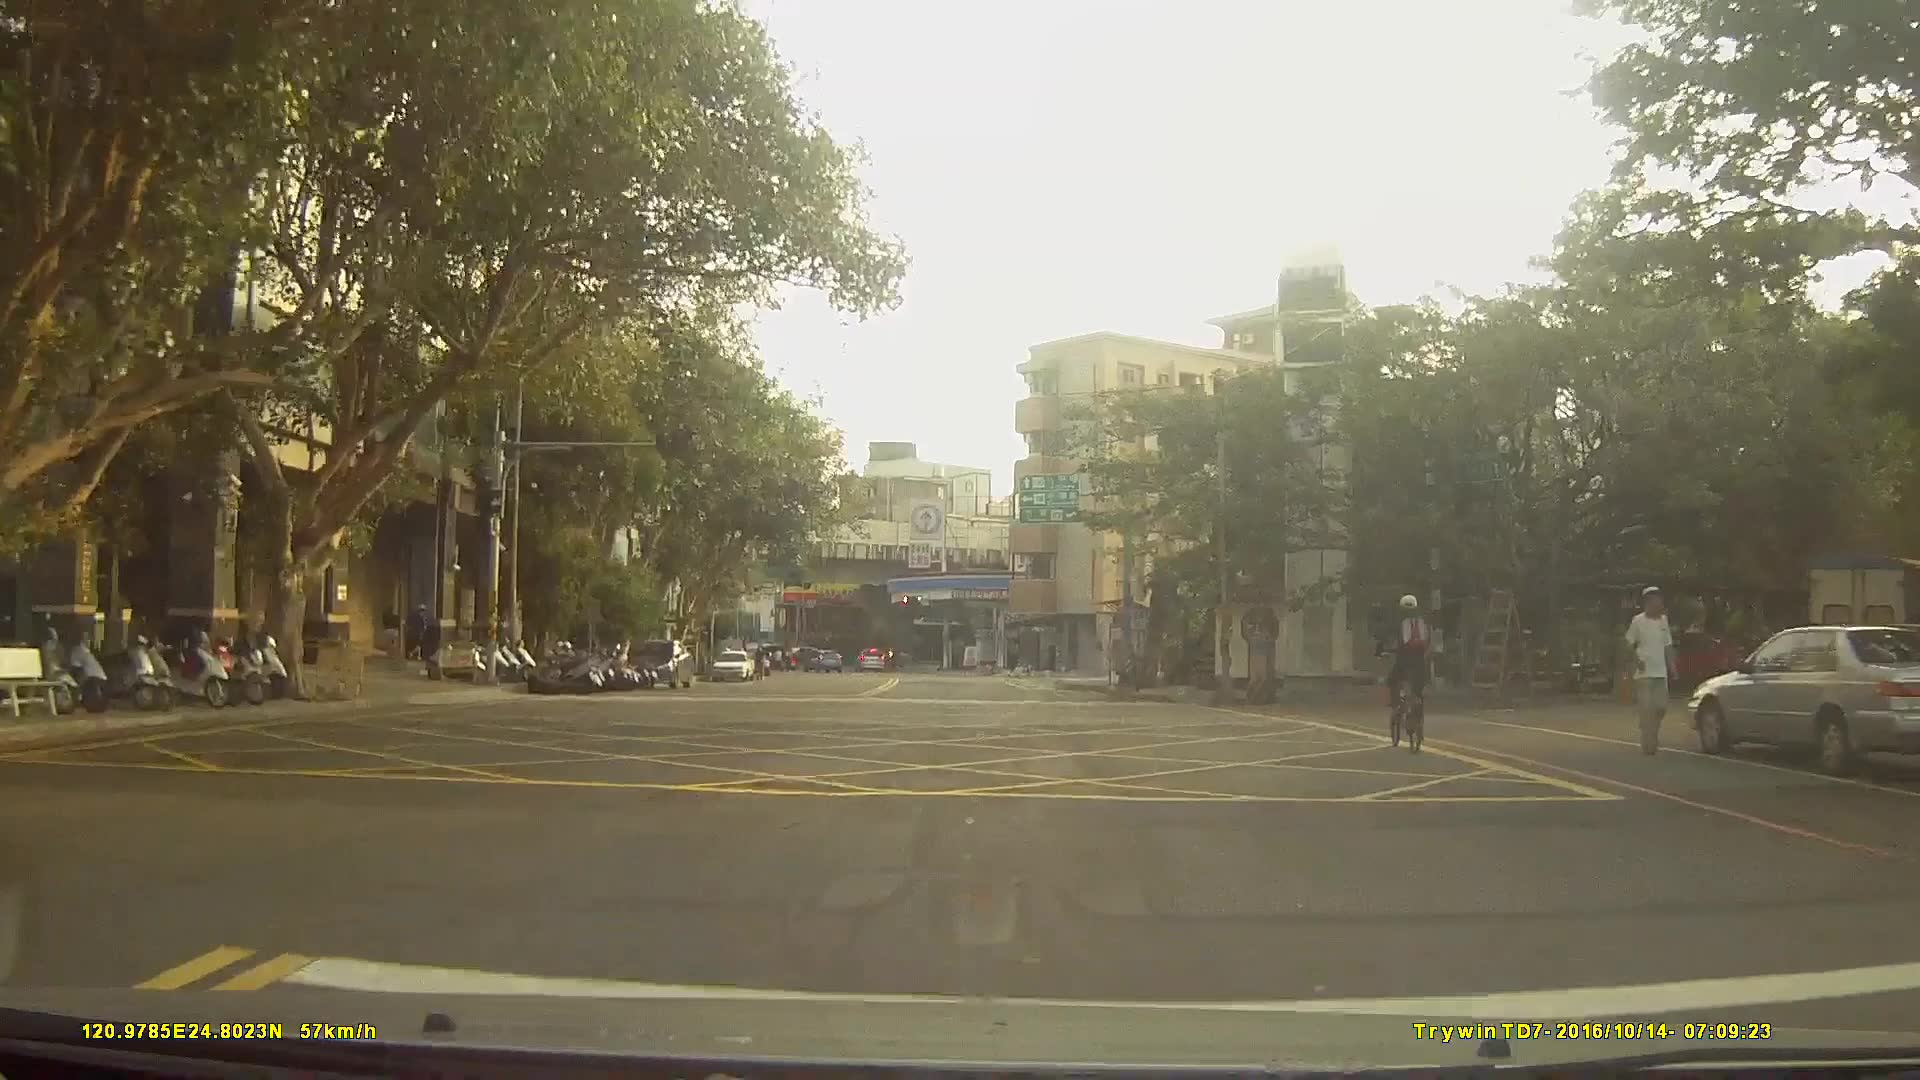pedestrian: (1620, 584, 1685, 758), (381, 600, 404, 659)
rider: (1377, 594, 1438, 748)
vehicle: (1688, 625, 1920, 775), (627, 638, 694, 691), (709, 647, 752, 681), (802, 645, 842, 670), (853, 642, 887, 668)
